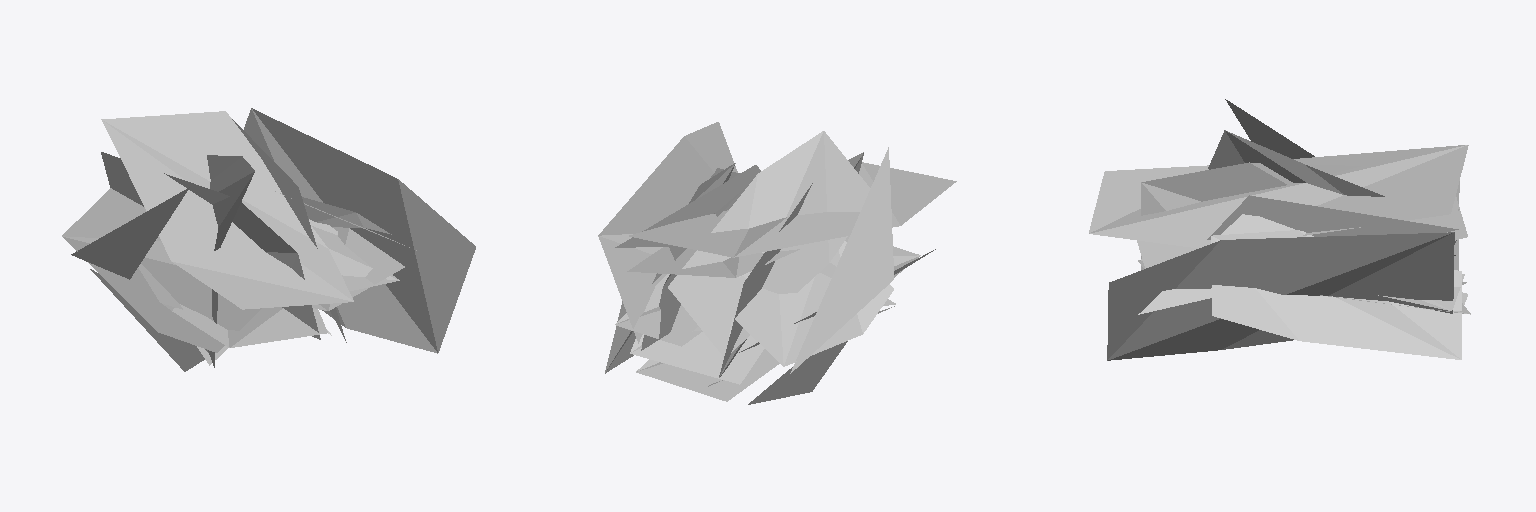
Rendered from tallBush.obj.
The picture shows the model from 3 angles: view 1: azimuth 30°, elevation 25°; view 2: azimuth 150°, elevation 25°; view 3: azimuth 270°, elevation 25°; orthographic projection.
Parts seen in each view (by area): view 1: Untitled.001_africaWheatGrassOne100; view 2: Untitled.001_africaWheatGrassOne100; view 3: Untitled.001_africaWheatGrassOne100.
Boxes of the visible parts, <box> form: Untitled.001_africaWheatGrassOne100: <box>62,108,475,371</box>; Untitled.001_africaWheatGrassOne100: <box>598,122,956,404</box>; Untitled.001_africaWheatGrassOne100: <box>1089,99,1470,360</box>.
Size of the model in its own units: 1.73 by 1.38 by 2.13.